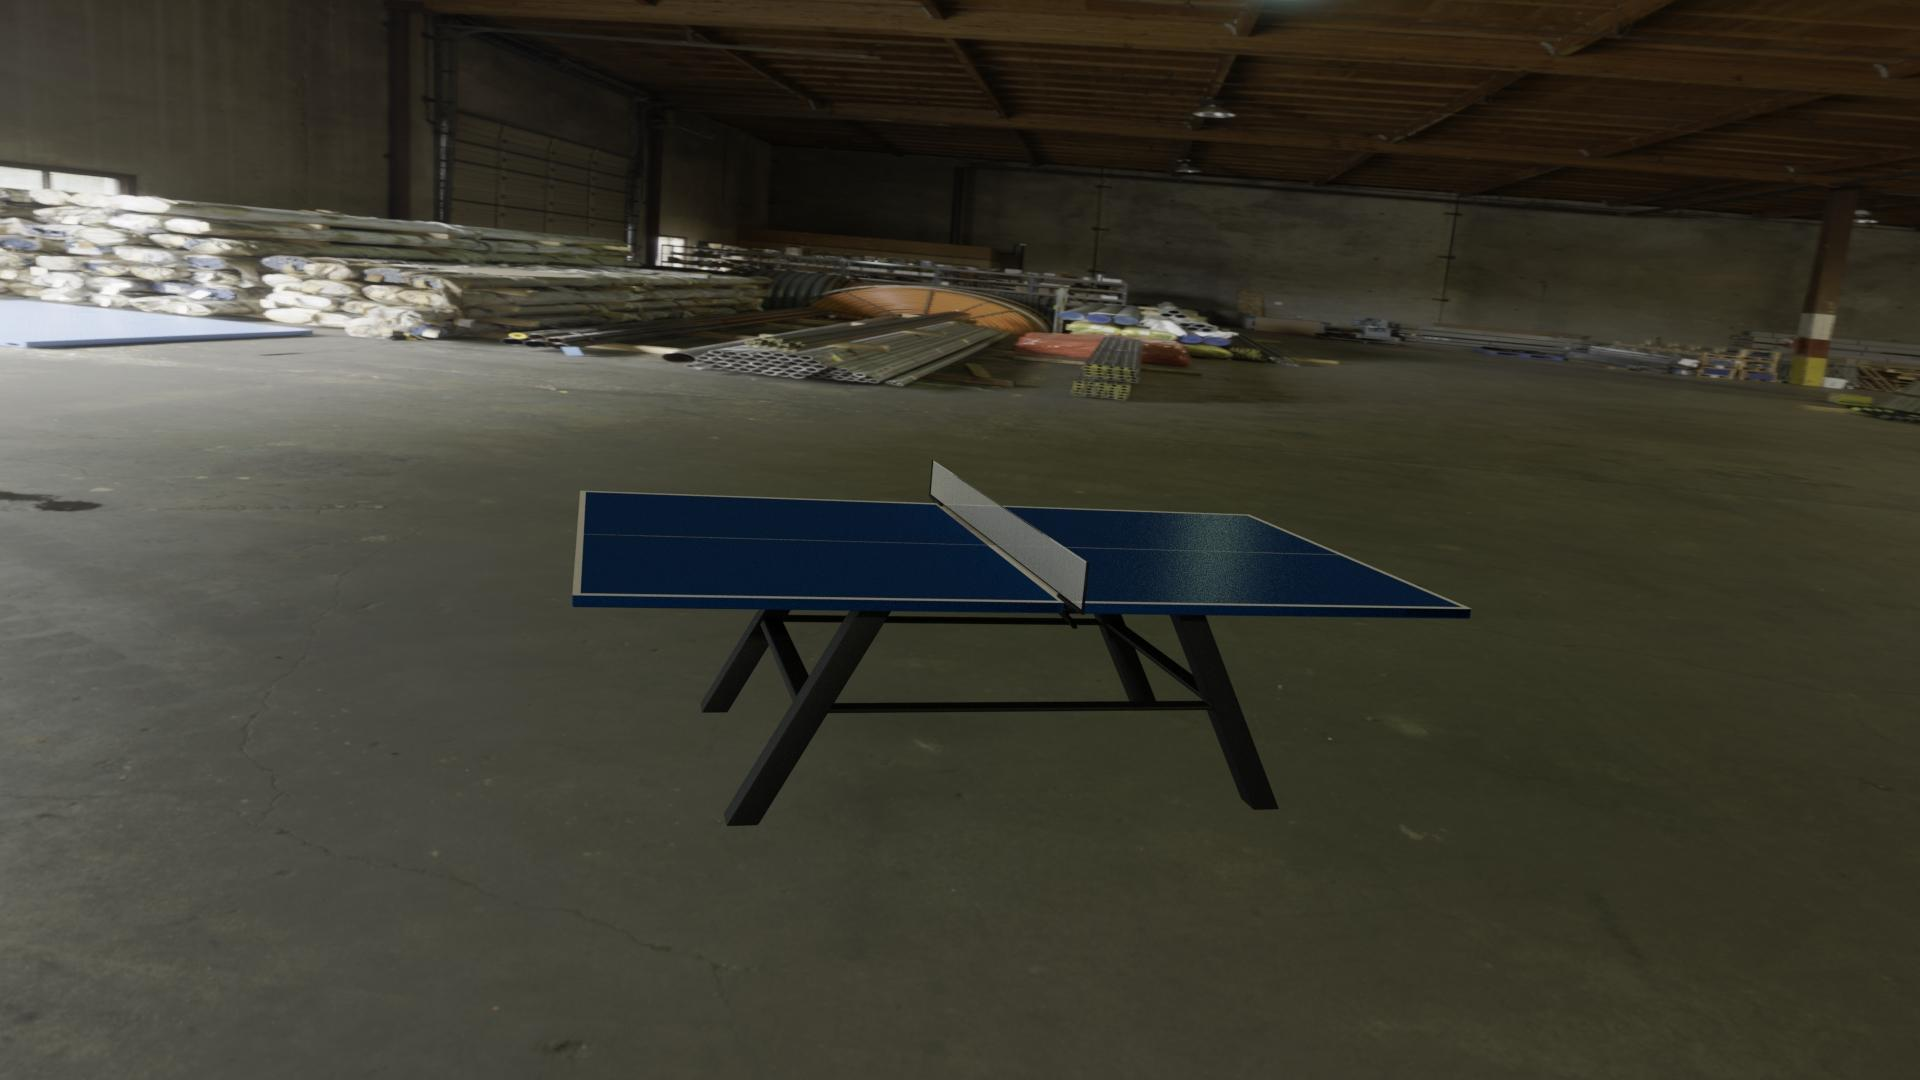table: (580, 492, 1462, 608)
